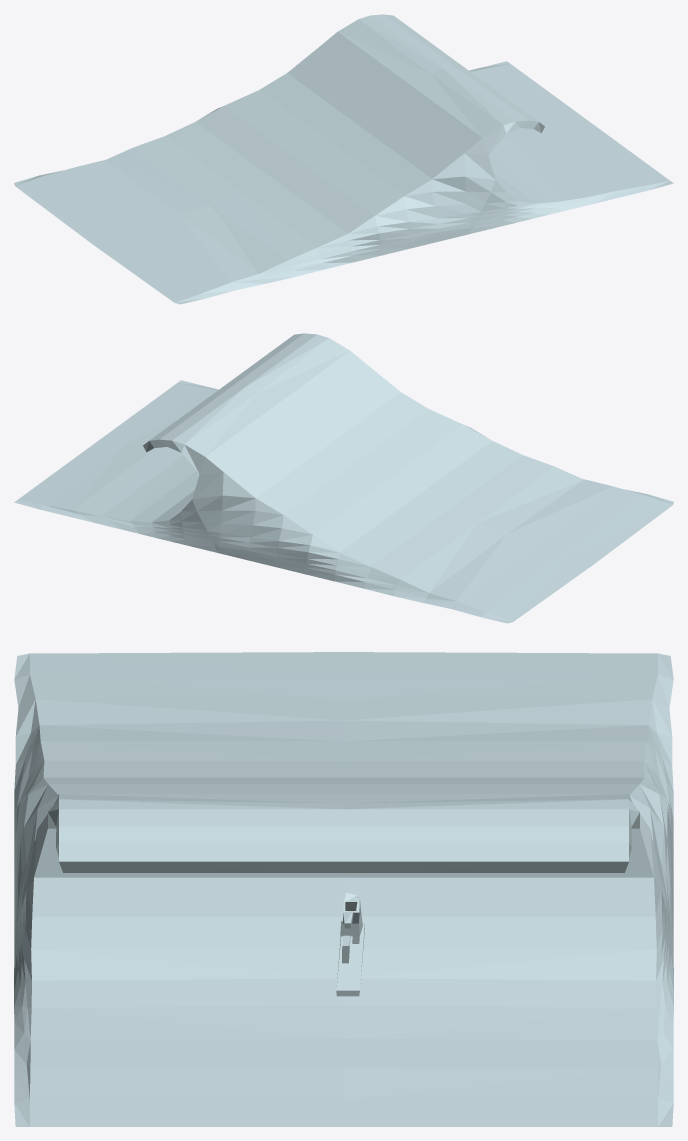
Rendered from wave-welded.glb.
The picture shows the model from 3 angles, top to bottom: view 1: azimuth 30°, elevation 25°; view 2: azimuth 150°, elevation 25°; view 3: azimuth 270°, elevation 25°; orthographic projection. The views are drawn at different scales.
Parts seen in each view (by area): view 1: Wave_Surfer_welded; view 2: Wave_Surfer_welded; view 3: Wave_Surfer_welded.
Boxes of the visible parts, x1,y1,x2,y2 form: Wave_Surfer_welded: (14,14,673,304); Wave_Surfer_welded: (14,333,673,623); Wave_Surfer_welded: (14,652,673,1126).
Size of the model in its own units: 1.99 by 0.3474 by 1.16.
